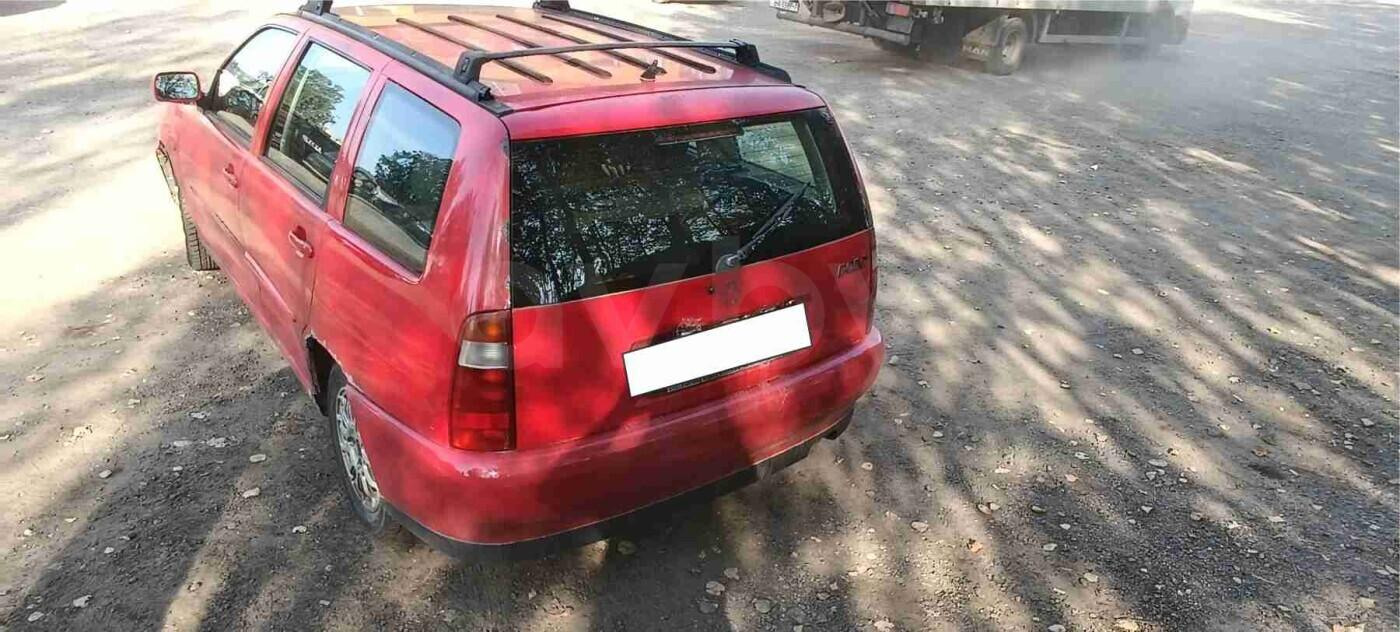Polo_1994-2002: (136, 0, 908, 579)
